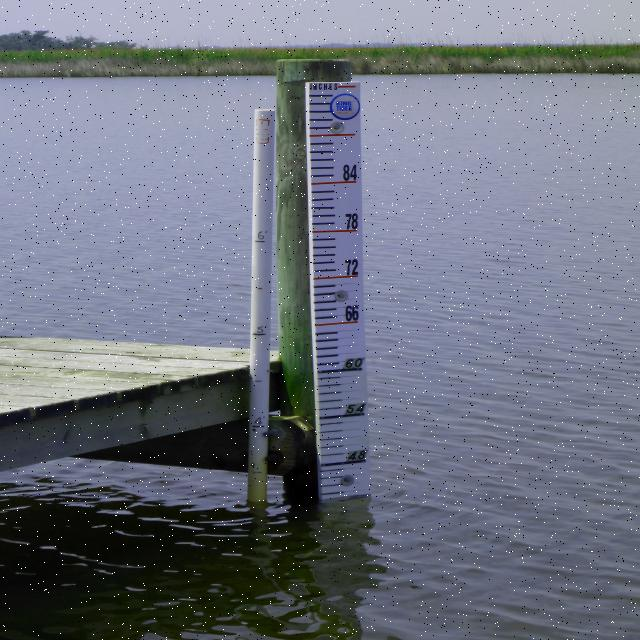staff: (304, 80, 378, 502)
